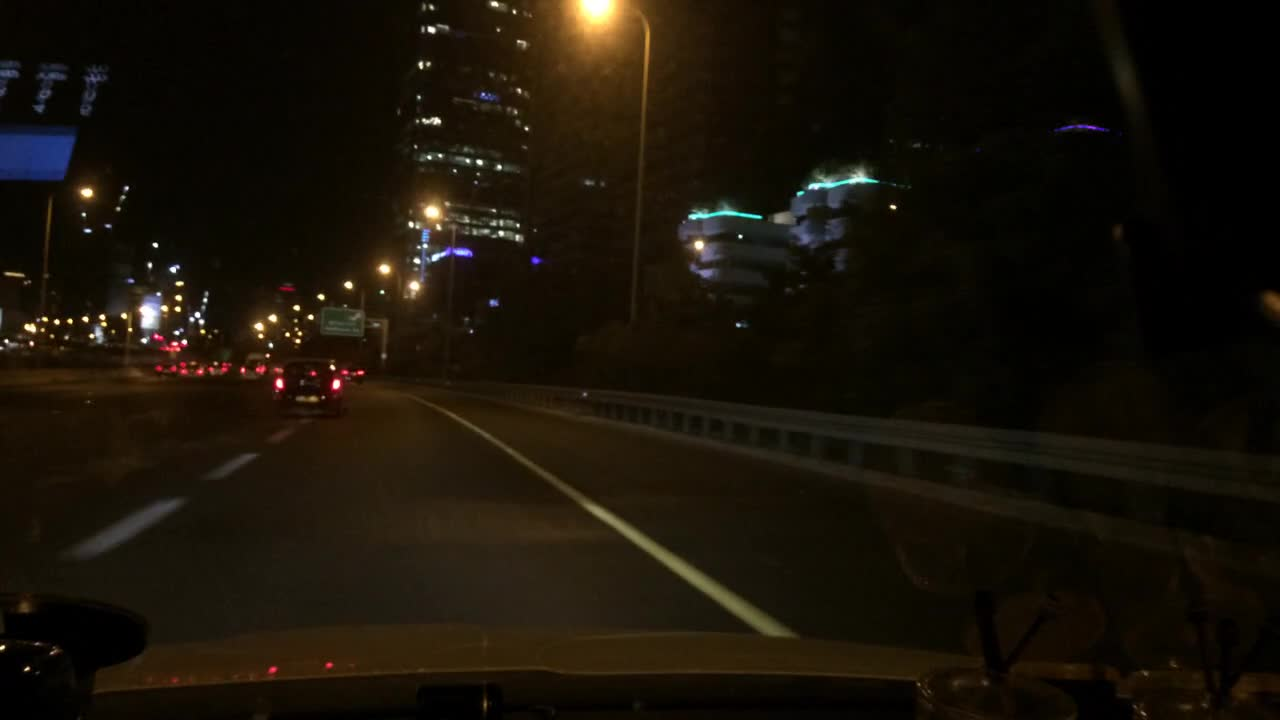car: (271, 358, 346, 416), (340, 361, 365, 384), (239, 361, 264, 383), (4, 333, 31, 349), (205, 359, 229, 377), (178, 360, 202, 377), (154, 360, 176, 375), (156, 341, 180, 353), (244, 351, 267, 361), (171, 336, 188, 347)
traffic sign: (320, 305, 364, 337)
